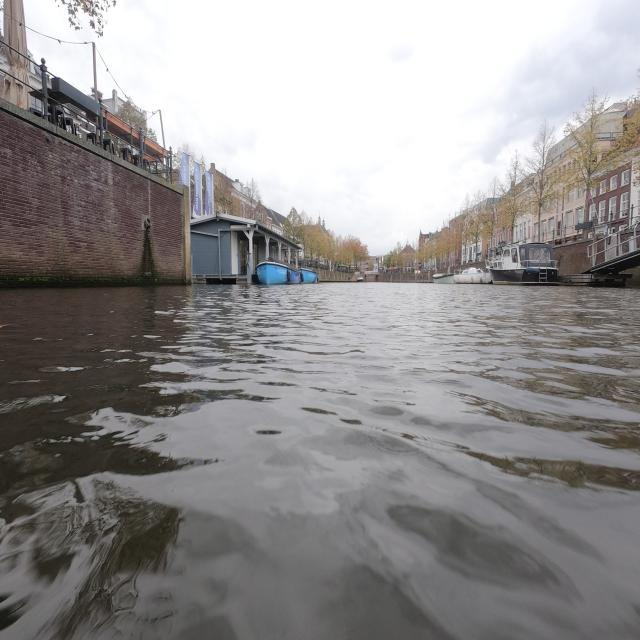boat: (486, 242, 559, 284), (256, 260, 318, 284)
dock: (557, 273, 632, 287)
sky: (24, 0, 640, 254)
wall: (0, 98, 191, 285)
water: (0, 284, 640, 638)
